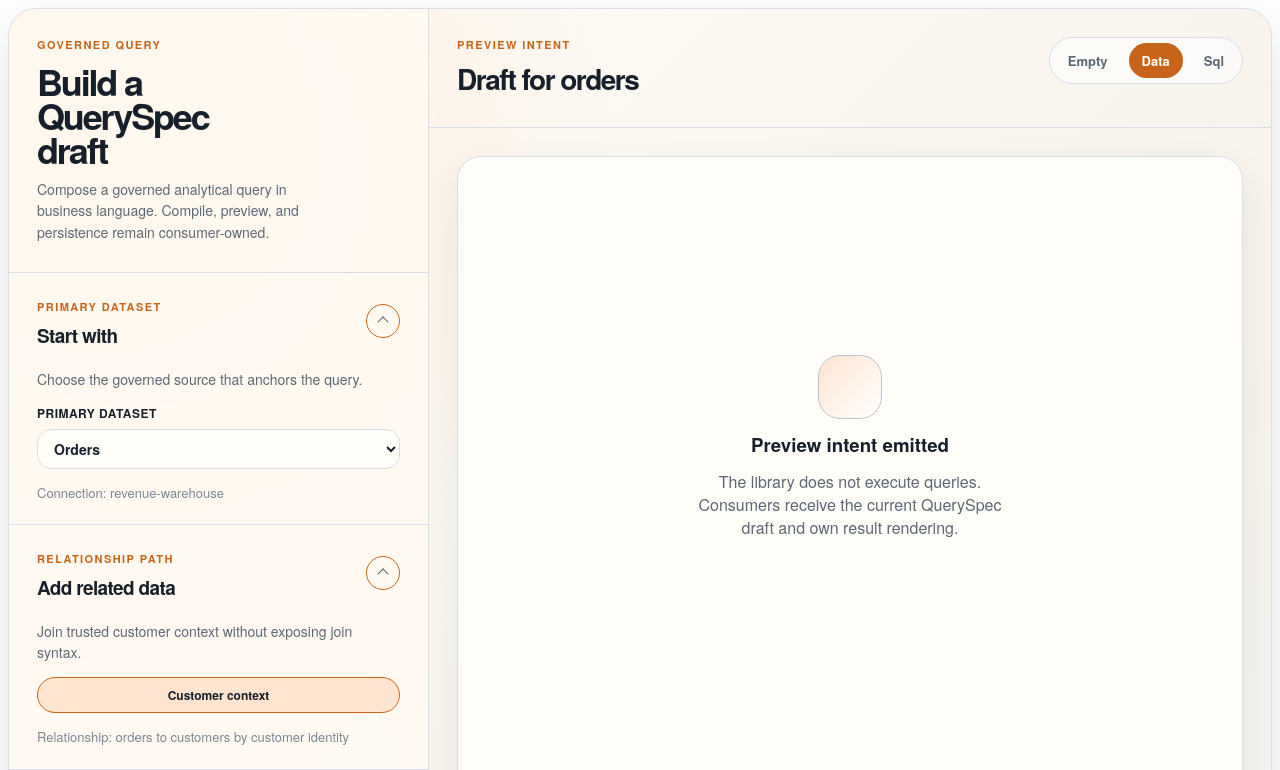
it: QueryBuilderComponent › does not render fake compiled SQL or fake result data
This screenshot has width=1280, height=770.
Click the button "sql" at {"x": 1214, "y": 60}, box [1191,43,1237,78]
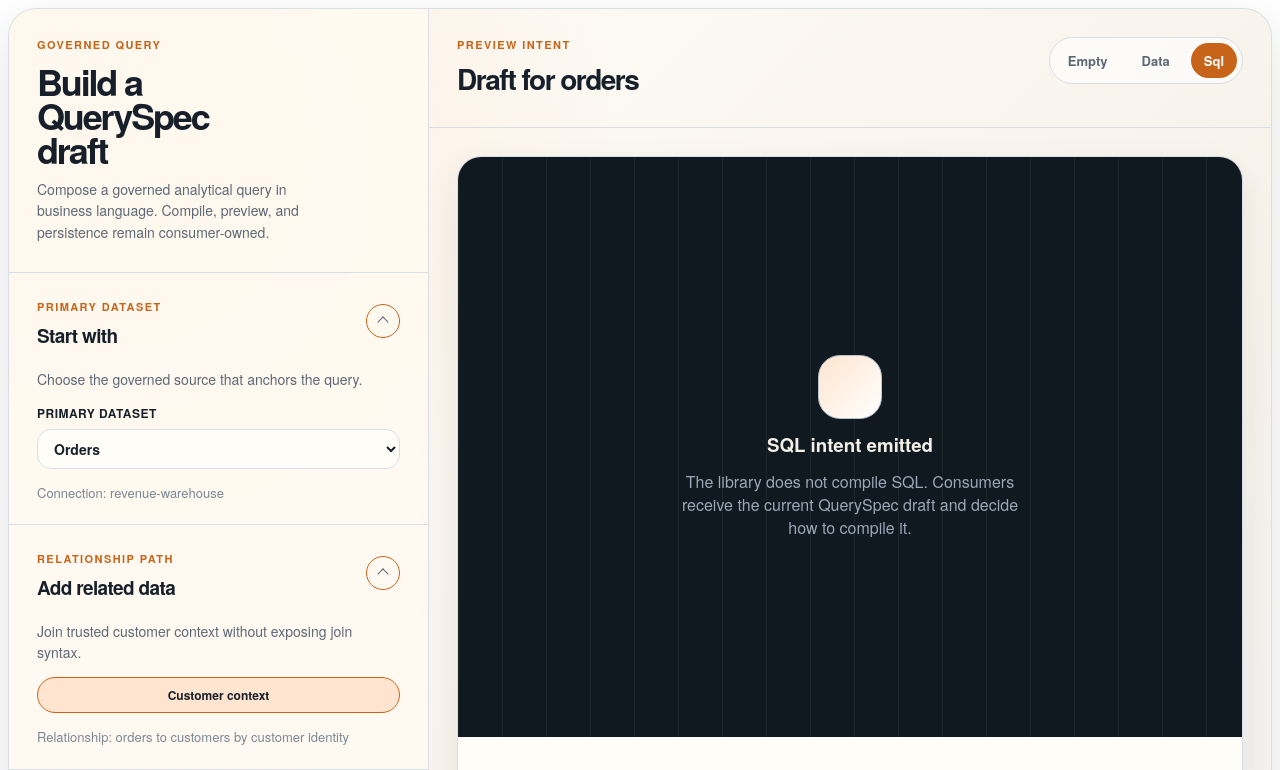
Now the text "SQL intent emitted" is shown, box [767,431,933,458]
Click the button "data" at {"x": 1156, "y": 60}, box [1128,43,1183,78]
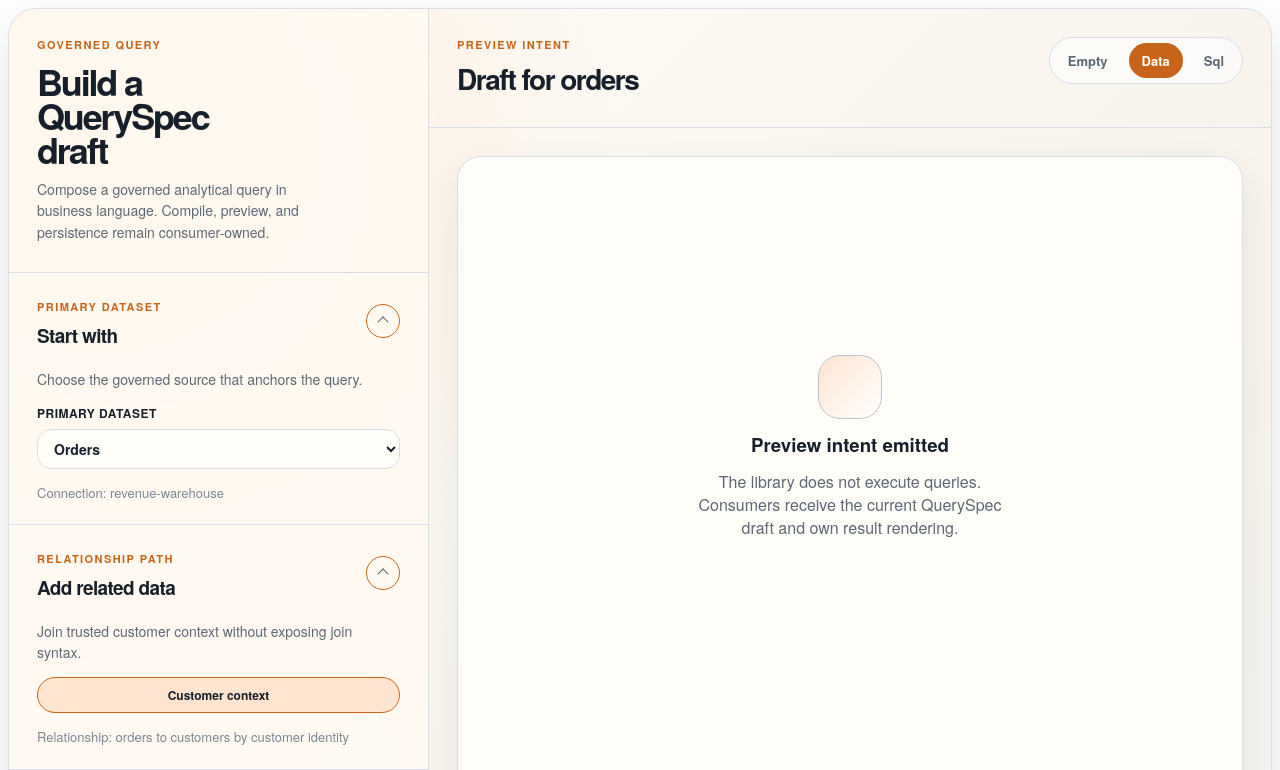
Now the text "Preview intent emitted" is shown, box [751,431,949,458]
